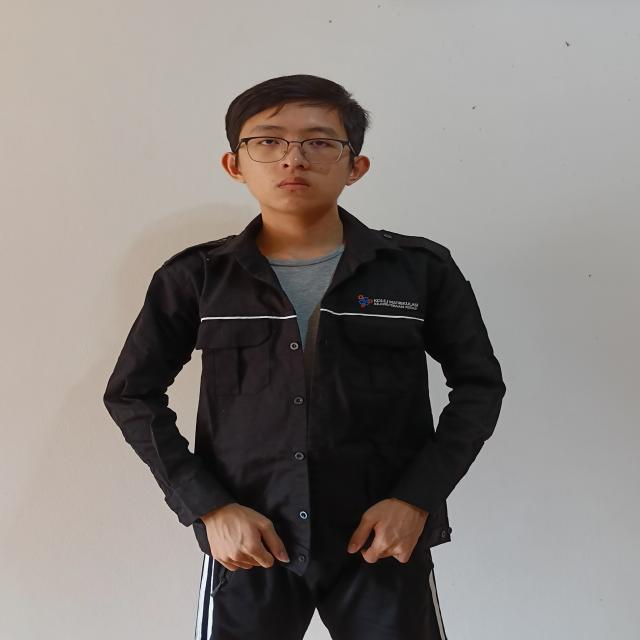person_with_labcoat: (104, 75, 505, 640)
